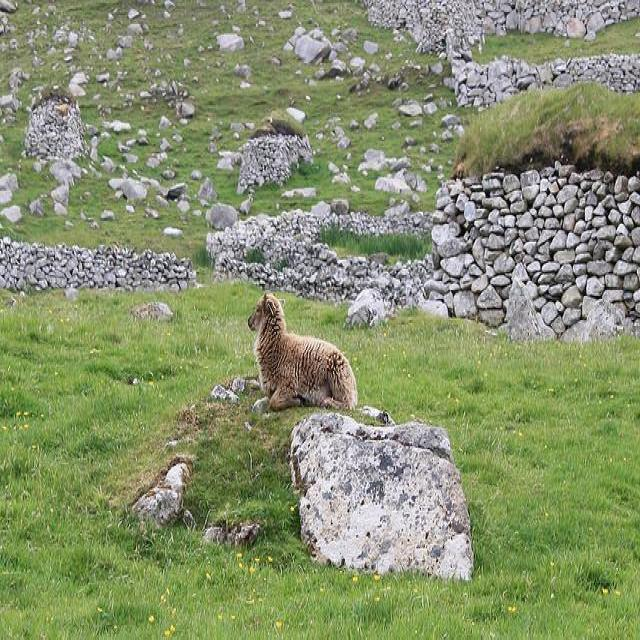Sheep: (248, 294, 358, 414)
